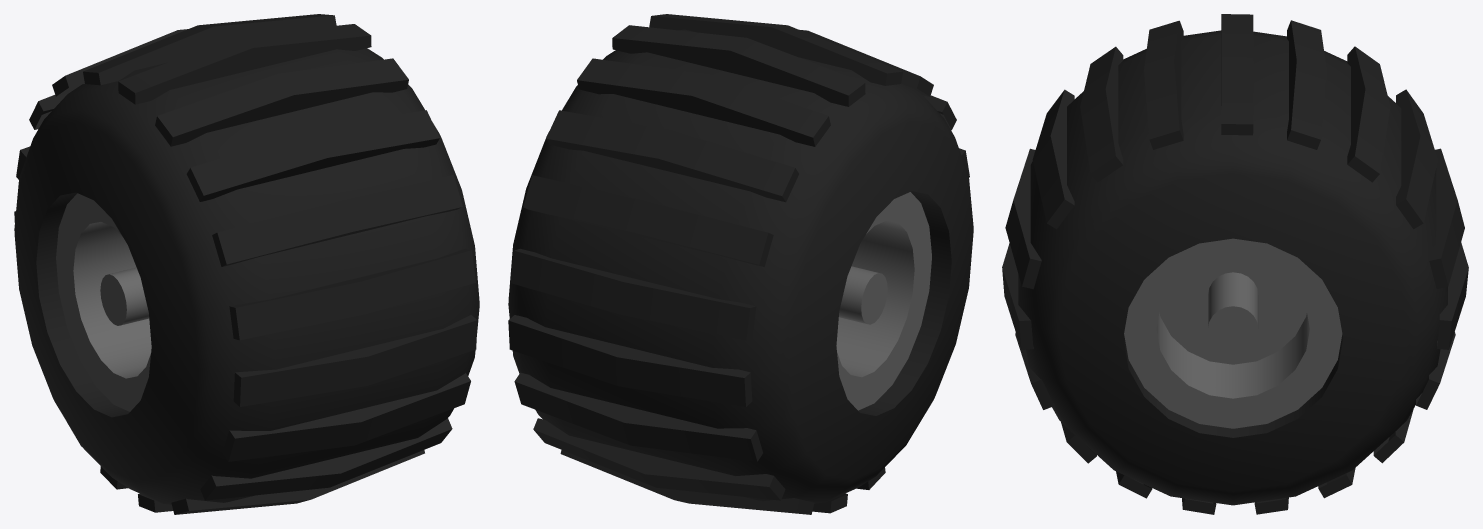
File: wheel2.glb
3 renders of one model, left to right at view 1: azimuth 30°, elevation 25°; view 2: azimuth 150°, elevation 25°; view 3: azimuth 270°, elevation 25°, orthographic. The views are drawn at different scales.
Visible parts, largest first — view 1: Front_Forks.002; view 2: Front_Forks.002; view 3: Front_Forks.002.
Boxes of the visible parts, bbox=[...] form: Front_Forks.002: bbox=[14, 14, 479, 514]; Front_Forks.002: bbox=[508, 14, 973, 514]; Front_Forks.002: bbox=[1002, 14, 1468, 514].
Size of the model in its own units: 0.8073 by 1.11 by 1.12.
1 material, 1 textured.
